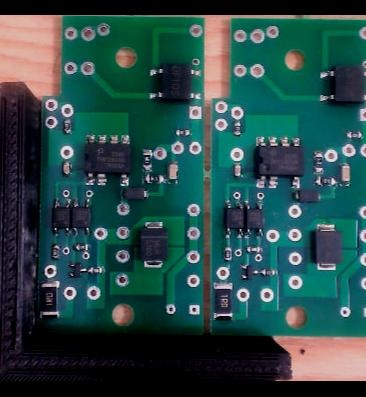chip-capacitor: (338, 163, 350, 187), (166, 161, 177, 186), (60, 161, 71, 178), (231, 163, 241, 178)
chip-resistor: (211, 283, 233, 323), (39, 279, 60, 320), (140, 173, 165, 186), (311, 150, 323, 175), (141, 148, 152, 173), (312, 176, 337, 187), (172, 128, 190, 139), (231, 121, 242, 138), (244, 245, 261, 255), (221, 246, 231, 262), (258, 268, 275, 277), (61, 119, 71, 134), (344, 132, 362, 140), (87, 266, 104, 274), (72, 244, 89, 252), (50, 245, 59, 260)
diode: (136, 220, 169, 269), (314, 223, 343, 273), (119, 187, 148, 201), (290, 191, 320, 204)
ic: (254, 136, 304, 189), (82, 133, 130, 187), (147, 64, 201, 102), (317, 64, 366, 103), (222, 200, 243, 240), (243, 200, 264, 239), (51, 198, 71, 237), (71, 198, 90, 237)
transistor: (66, 262, 87, 278), (238, 265, 258, 280)
